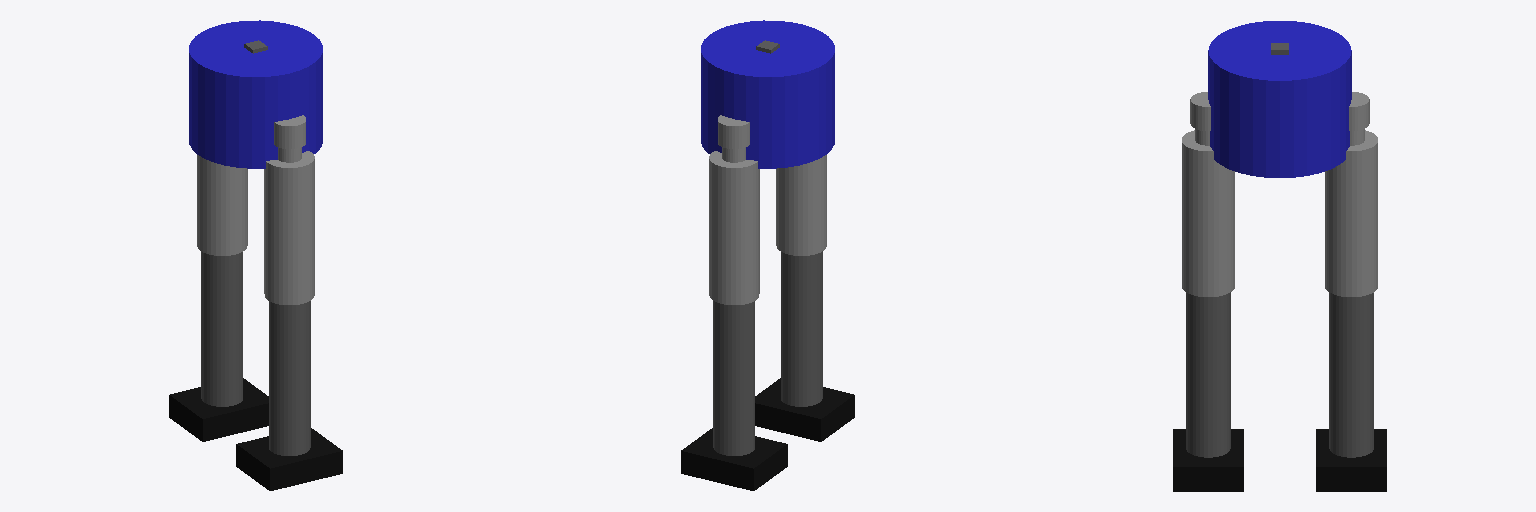
The robot description file, URDF, robot "biped_digitigrade":
<?xml version="1.0" ?>
<!-- =================================================================================== -->
<!-- |    This document was autogenerated by xacro from src/biped_description/urdf/biped_digitigrade.urdf.xacro | -->
<!-- |    EDITING THIS FILE BY HAND IS NOT RECOMMENDED                                 | -->
<!-- =================================================================================== -->
<robot name="biped_digitigrade">
  <!-- 
    逆関節（Digitigrade/鳥脚型）二脚ロボット URDF
    
    特徴:
    - 膝が前方に曲がる逆関節構造
    - 片脚5関節 × 2脚（左右対称）
    - 関節構成: 腰ヨー, 股関節ロール, 股関節ピッチ, 膝ピッチ, 足首ピッチ
    - IMUリンク: 胴体上面中央に配置（強化学習・状態推定用）
  -->
  <!-- 足部長さ [m] -->
  <!-- マテリアル定義 -->
  <material name="blue">
    <color rgba="0.2 0.2 0.8 1.0"/>
  </material>
  <material name="gray">
    <color rgba="0.6 0.6 0.6 1.0"/>
  </material>
  <material name="dark_gray">
    <color rgba="0.4 0.4 0.4 1.0"/>
  </material>
  <material name="black">
    <color rgba="0.1 0.1 0.1 1.0"/>
  </material>
  <!-- Base Link (胴体) -->
  <link name="base_link">
    <visual>
      <origin rpy="0 0 0" xyz="0 0 0"/>
      <geometry>
        <cylinder length="0.12" radius="0.08"/>
      </geometry>
      <material name="blue"/>
    </visual>
    <collision>
      <origin rpy="0 0 0" xyz="0 0 0"/>
      <geometry>
        <cylinder length="0.12" radius="0.08"/>
      </geometry>
    </collision>
    <inertial>
      <mass value="3.0"/>
      <origin rpy="0 0 0" xyz="0 0 0"/>
      <inertia ixx="0.05" ixy="0" ixz="0" iyy="0.05" iyz="0" izz="0.05"/>
    </inertial>
  </link>
  <!-- IMU Link -->
  <!-- 
    IMUセンサの取り付け位置を定義するフレーム
    - URDFではリンク+固定ジョイントとして定義（ROS 2標準）
    - MuJoCo変換時にはsiteとして扱われ、gyro/accelerometer等のセンサを配置可能
    - 質量・慣性は無視できる程度の小さい値（シミュレーションに影響しない）
  -->
  <link name="imu_link">
    <visual>
      <origin rpy="0 0 0" xyz="0 0 0"/>
      <geometry>
        <box size="0.02 0.02 0.01"/>
      </geometry>
      <material name="dark_gray"/>
    </visual>
    <inertial>
      <mass value="0.01"/>
      <origin rpy="0 0 0" xyz="0 0 0"/>
      <inertia ixx="1e-6" ixy="0" ixz="0" iyy="1e-6" iyz="0" izz="1e-6"/>
    </inertial>
  </link>
  <joint name="imu_joint" type="fixed">
    <parent link="base_link"/>
    <child link="imu_link"/>
    <!-- IMUは胴体上面中央に配置 -->
    <origin rpy="0 0 0" xyz="0 0 0.06"/>
  </joint>
  <!-- 
      関節命名規則:
      - 左脚 (side=left, reflect=1):  j11, j12, j13, j14, j15
      - 右脚 (side=right, reflect=-1): j21, j22, j23, j24, j25
    -->
  <!-- j11/j21: Hip Yaw Joint (腰ヨー) -->
  <joint name="left_hip_yaw_joint" type="revolute">
    <parent link="base_link"/>
    <child link="left_hip_yaw_link"/>
    <origin rpy="0 0 0" xyz="0 0.08 0"/>
    <axis xyz="0 0 1"/>
    <!-- Z軸回転（ヨー） -->
    <limit effort="50" lower="-0.5235987755982988" upper="0.5235987755982988" velocity="5"/>
    <dynamics damping="0.1" friction="0.1"/>
  </joint>
  <link name="left_hip_yaw_link">
    <visual>
      <origin rpy="0 0 0" xyz="0 0 -0.015"/>
      <geometry>
        <cylinder length="0.03" radius="0.02"/>
      </geometry>
      <material name="gray"/>
    </visual>
    <inertial>
      <mass value="0.3"/>
      <origin rpy="0 0 0" xyz="0 0 -0.015"/>
      <inertia ixx="0.001" ixy="0" ixz="0" iyy="0.001" iyz="0" izz="0.001"/>
    </inertial>
  </link>
  <!-- j12/j22: Hip Roll Joint (股関節ロール) -->
  <joint name="left_hip_roll_joint" type="revolute">
    <parent link="left_hip_yaw_link"/>
    <child link="left_hip_roll_link"/>
    <origin rpy="0 0 0" xyz="0 0 -0.03"/>
    <axis xyz="1 0 0"/>
    <!-- X軸回転（ロール） -->
    <limit effort="50" lower="-0.3490658503988659" upper="0.3490658503988659" velocity="5"/>
    <dynamics damping="0.1" friction="0.1"/>
  </joint>
  <link name="left_hip_roll_link">
    <visual>
      <origin rpy="0 0 0" xyz="0 0 -0.01"/>
      <geometry>
        <cylinder length="0.02" radius="0.015"/>
      </geometry>
      <material name="gray"/>
    </visual>
    <inertial>
      <mass value="0.2"/>
      <origin rpy="0 0 0" xyz="0 0 -0.01"/>
      <inertia ixx="0.0005" ixy="0" ixz="0" iyy="0.0005" iyz="0" izz="0.0005"/>
    </inertial>
  </link>
  <!-- j13/j23: Hip Pitch Joint (股関節ピッチ) -->
  <joint name="left_hip_pitch_joint" type="revolute">
    <parent link="left_hip_roll_link"/>
    <child link="left_thigh_link"/>
    <origin rpy="0 0 0" xyz="0 0 -0.02"/>
    <axis xyz="0 1 0"/>
    <!-- Y軸回転（ピッチ） -->
    <limit effort="100" lower="-1.5707963267948966" upper="1.5707963267948966" velocity="10"/>
    <dynamics damping="0.2" friction="0.15"/>
  </joint>
  <link name="left_thigh_link">
    <visual>
      <origin rpy="0 0 0" xyz="0 0 -0.09"/>
      <geometry>
        <cylinder length="0.18" radius="0.03"/>
      </geometry>
      <material name="gray"/>
    </visual>
    <collision>
      <origin rpy="0 0 0" xyz="0 0 -0.09"/>
      <geometry>
        <cylinder length="0.18" radius="0.03"/>
      </geometry>
    </collision>
    <inertial>
      <mass value="1.0"/>
      <origin rpy="0 0 0" xyz="0 0 -0.09"/>
      <inertia ixx="0.01" ixy="0" ixz="0" iyy="0.01" iyz="0" izz="0.001"/>
    </inertial>
  </link>
  <!-- j14/j24: Knee Pitch Joint (膝ピッチ) - 逆関節：前方に曲がる -->
  <joint name="left_knee_pitch_joint" type="revolute">
    <parent link="left_thigh_link"/>
    <child link="left_shank_link"/>
    <origin rpy="0 0 0" xyz="0 0 -0.18"/>
    <axis xyz="0 1 0"/>
    <!-- Y軸回転（ピッチ） -->
    <!-- 逆関節: 負の角度で前方に曲がる -->
    <limit effort="100" lower="-2.0943951023931953" upper="0.0" velocity="10"/>
    <dynamics damping="0.2" friction="0.15"/>
  </joint>
  <link name="left_shank_link">
    <visual>
      <origin rpy="0 0 0" xyz="0 0 -0.1"/>
      <geometry>
        <cylinder length="0.2" radius="0.025"/>
      </geometry>
      <material name="dark_gray"/>
    </visual>
    <collision>
      <origin rpy="0 0 0" xyz="0 0 -0.1"/>
      <geometry>
        <cylinder length="0.2" radius="0.025"/>
      </geometry>
    </collision>
    <inertial>
      <mass value="0.6"/>
      <origin rpy="0 0 0" xyz="0 0 -0.1"/>
      <inertia ixx="0.005" ixy="0" ixz="0" iyy="0.005" iyz="0" izz="0.0005"/>
    </inertial>
  </link>
  <!-- j15/j25: Ankle Pitch Joint (足首ピッチ) -->
  <joint name="left_ankle_pitch_joint" type="revolute">
    <parent link="left_shank_link"/>
    <child link="left_foot_link"/>
    <origin rpy="0 0 0" xyz="0 0 -0.2"/>
    <axis xyz="0 1 0"/>
    <!-- Y軸回転（ピッチ） -->
    <limit effort="50" lower="-0.7853981633974483" upper="2.356194490192345" velocity="10"/>
    <dynamics damping="0.1" friction="0.1"/>
  </joint>
  <link name="left_foot_link">
    <!-- 足首関節が足部の中心に位置する -->
    <!-- 足部は前後に均等に広がる（前方 +X、後方 -X） -->
    <visual>
      <origin rpy="0 0 0" xyz="0 0 -0.015"/>
      <geometry>
        <box size="0.1 0.08 0.03"/>
      </geometry>
      <material name="black"/>
    </visual>
    <collision>
      <origin rpy="0 0 0" xyz="0 0 -0.015"/>
      <geometry>
        <box size="0.1 0.08 0.03"/>
      </geometry>
    </collision>
    <inertial>
      <mass value="0.3"/>
      <origin rpy="0 0 0" xyz="0 0 -0.015"/>
      <inertia ixx="0.001" ixy="0" ixz="0" iyy="0.001" iyz="0" izz="0.001"/>
    </inertial>
  </link>
  <!-- 
      関節命名規則:
      - 左脚 (side=left, reflect=1):  j11, j12, j13, j14, j15
      - 右脚 (side=right, reflect=-1): j21, j22, j23, j24, j25
    -->
  <!-- j11/j21: Hip Yaw Joint (腰ヨー) -->
  <joint name="right_hip_yaw_joint" type="revolute">
    <parent link="base_link"/>
    <child link="right_hip_yaw_link"/>
    <origin rpy="0 0 0" xyz="0 -0.08 0"/>
    <axis xyz="0 0 1"/>
    <!-- Z軸回転（ヨー） -->
    <limit effort="50" lower="-0.5235987755982988" upper="0.5235987755982988" velocity="5"/>
    <dynamics damping="0.1" friction="0.1"/>
  </joint>
  <link name="right_hip_yaw_link">
    <visual>
      <origin rpy="0 0 0" xyz="0 0 -0.015"/>
      <geometry>
        <cylinder length="0.03" radius="0.02"/>
      </geometry>
      <material name="gray"/>
    </visual>
    <inertial>
      <mass value="0.3"/>
      <origin rpy="0 0 0" xyz="0 0 -0.015"/>
      <inertia ixx="0.001" ixy="0" ixz="0" iyy="0.001" iyz="0" izz="0.001"/>
    </inertial>
  </link>
  <!-- j12/j22: Hip Roll Joint (股関節ロール) -->
  <joint name="right_hip_roll_joint" type="revolute">
    <parent link="right_hip_yaw_link"/>
    <child link="right_hip_roll_link"/>
    <origin rpy="0 0 0" xyz="0 0 -0.03"/>
    <axis xyz="1 0 0"/>
    <!-- X軸回転（ロール） -->
    <limit effort="50" lower="-0.3490658503988659" upper="0.3490658503988659" velocity="5"/>
    <dynamics damping="0.1" friction="0.1"/>
  </joint>
  <link name="right_hip_roll_link">
    <visual>
      <origin rpy="0 0 0" xyz="0 0 -0.01"/>
      <geometry>
        <cylinder length="0.02" radius="0.015"/>
      </geometry>
      <material name="gray"/>
    </visual>
    <inertial>
      <mass value="0.2"/>
      <origin rpy="0 0 0" xyz="0 0 -0.01"/>
      <inertia ixx="0.0005" ixy="0" ixz="0" iyy="0.0005" iyz="0" izz="0.0005"/>
    </inertial>
  </link>
  <!-- j13/j23: Hip Pitch Joint (股関節ピッチ) -->
  <joint name="right_hip_pitch_joint" type="revolute">
    <parent link="right_hip_roll_link"/>
    <child link="right_thigh_link"/>
    <origin rpy="0 0 0" xyz="0 0 -0.02"/>
    <axis xyz="0 1 0"/>
    <!-- Y軸回転（ピッチ） -->
    <limit effort="100" lower="-1.5707963267948966" upper="1.5707963267948966" velocity="10"/>
    <dynamics damping="0.2" friction="0.15"/>
  </joint>
  <link name="right_thigh_link">
    <visual>
      <origin rpy="0 0 0" xyz="0 0 -0.09"/>
      <geometry>
        <cylinder length="0.18" radius="0.03"/>
      </geometry>
      <material name="gray"/>
    </visual>
    <collision>
      <origin rpy="0 0 0" xyz="0 0 -0.09"/>
      <geometry>
        <cylinder length="0.18" radius="0.03"/>
      </geometry>
    </collision>
    <inertial>
      <mass value="1.0"/>
      <origin rpy="0 0 0" xyz="0 0 -0.09"/>
      <inertia ixx="0.01" ixy="0" ixz="0" iyy="0.01" iyz="0" izz="0.001"/>
    </inertial>
  </link>
  <!-- j14/j24: Knee Pitch Joint (膝ピッチ) - 逆関節：前方に曲がる -->
  <joint name="right_knee_pitch_joint" type="revolute">
    <parent link="right_thigh_link"/>
    <child link="right_shank_link"/>
    <origin rpy="0 0 0" xyz="0 0 -0.18"/>
    <axis xyz="0 1 0"/>
    <!-- Y軸回転（ピッチ） -->
    <!-- 逆関節: 負の角度で前方に曲がる -->
    <limit effort="100" lower="-2.0943951023931953" upper="0.0" velocity="10"/>
    <dynamics damping="0.2" friction="0.15"/>
  </joint>
  <link name="right_shank_link">
    <visual>
      <origin rpy="0 0 0" xyz="0 0 -0.1"/>
      <geometry>
        <cylinder length="0.2" radius="0.025"/>
      </geometry>
      <material name="dark_gray"/>
    </visual>
    <collision>
      <origin rpy="0 0 0" xyz="0 0 -0.1"/>
      <geometry>
        <cylinder length="0.2" radius="0.025"/>
      </geometry>
    </collision>
    <inertial>
      <mass value="0.6"/>
      <origin rpy="0 0 0" xyz="0 0 -0.1"/>
      <inertia ixx="0.005" ixy="0" ixz="0" iyy="0.005" iyz="0" izz="0.0005"/>
    </inertial>
  </link>
  <!-- j15/j25: Ankle Pitch Joint (足首ピッチ) -->
  <joint name="right_ankle_pitch_joint" type="revolute">
    <parent link="right_shank_link"/>
    <child link="right_foot_link"/>
    <origin rpy="0 0 0" xyz="0 0 -0.2"/>
    <axis xyz="0 1 0"/>
    <!-- Y軸回転（ピッチ） -->
    <limit effort="50" lower="-0.7853981633974483" upper="2.356194490192345" velocity="10"/>
    <dynamics damping="0.1" friction="0.1"/>
  </joint>
  <link name="right_foot_link">
    <!-- 足首関節が足部の中心に位置する -->
    <!-- 足部は前後に均等に広がる（前方 +X、後方 -X） -->
    <visual>
      <origin rpy="0 0 0" xyz="0 0 -0.015"/>
      <geometry>
        <box size="0.1 0.08 0.03"/>
      </geometry>
      <material name="black"/>
    </visual>
    <collision>
      <origin rpy="0 0 0" xyz="0 0 -0.015"/>
      <geometry>
        <box size="0.1 0.08 0.03"/>
      </geometry>
    </collision>
    <inertial>
      <mass value="0.3"/>
      <origin rpy="0 0 0" xyz="0 0 -0.015"/>
      <inertia ixx="0.001" ixy="0" ixz="0" iyy="0.001" iyz="0" izz="0.001"/>
    </inertial>
  </link>
</robot>

--- Facts derived from the render (not from the file) ---
The picture shows the robot from 3 angles, left to right: view 1: azimuth 30°, elevation 25°; view 2: azimuth 150°, elevation 25°; view 3: azimuth 270°, elevation 25°; orthographic projection.
Robot: biped_digitigrade — 12 links, 11 joints (10 revolute, 1 fixed); root link base_link; default pose: all joints at 0.
Links seen in each view (by area): view 1: base_link, right_thigh_link, left_shank_link, right_shank_link, left_thigh_link, right_foot_link, left_foot_link, right_hip_yaw_link; view 2: base_link, left_thigh_link, right_shank_link, left_shank_link, right_thigh_link, left_foot_link, right_foot_link, left_hip_yaw_link; view 3: base_link, left_thigh_link, right_thigh_link, left_shank_link, right_shank_link, left_foot_link, right_foot_link, left_hip_yaw_link, right_hip_yaw_link.
Boxes of the visible links, x1,y1,x2,y2 form: base_link: (189, 20, 322, 168); right_thigh_link: (264, 151, 314, 304); left_shank_link: (201, 251, 242, 406); right_shank_link: (269, 301, 310, 455); left_thigh_link: (197, 155, 247, 255); right_foot_link: (236, 428, 342, 490); left_foot_link: (169, 378, 268, 441); right_hip_yaw_link: (274, 115, 305, 148); base_link: (701, 20, 834, 168); left_thigh_link: (709, 151, 759, 304); right_shank_link: (781, 251, 822, 406); left_shank_link: (713, 301, 754, 455); right_thigh_link: (776, 155, 826, 255); left_foot_link: (681, 428, 787, 490); right_foot_link: (755, 378, 854, 441); left_hip_yaw_link: (718, 115, 749, 148); base_link: (1208, 21, 1351, 177); left_thigh_link: (1325, 130, 1377, 296); right_thigh_link: (1182, 130, 1234, 296); left_shank_link: (1329, 292, 1373, 457); right_shank_link: (1186, 292, 1230, 457); left_foot_link: (1316, 429, 1386, 491); right_foot_link: (1173, 429, 1243, 491); left_hip_yaw_link: (1349, 92, 1369, 130); right_hip_yaw_link: (1190, 92, 1210, 130).
Bounding box of the posed robot: 0.16 × 0.24 × 0.525 m (x, y, z).
Geometry: primitives only (box / cylinder / sphere), no mesh files.
